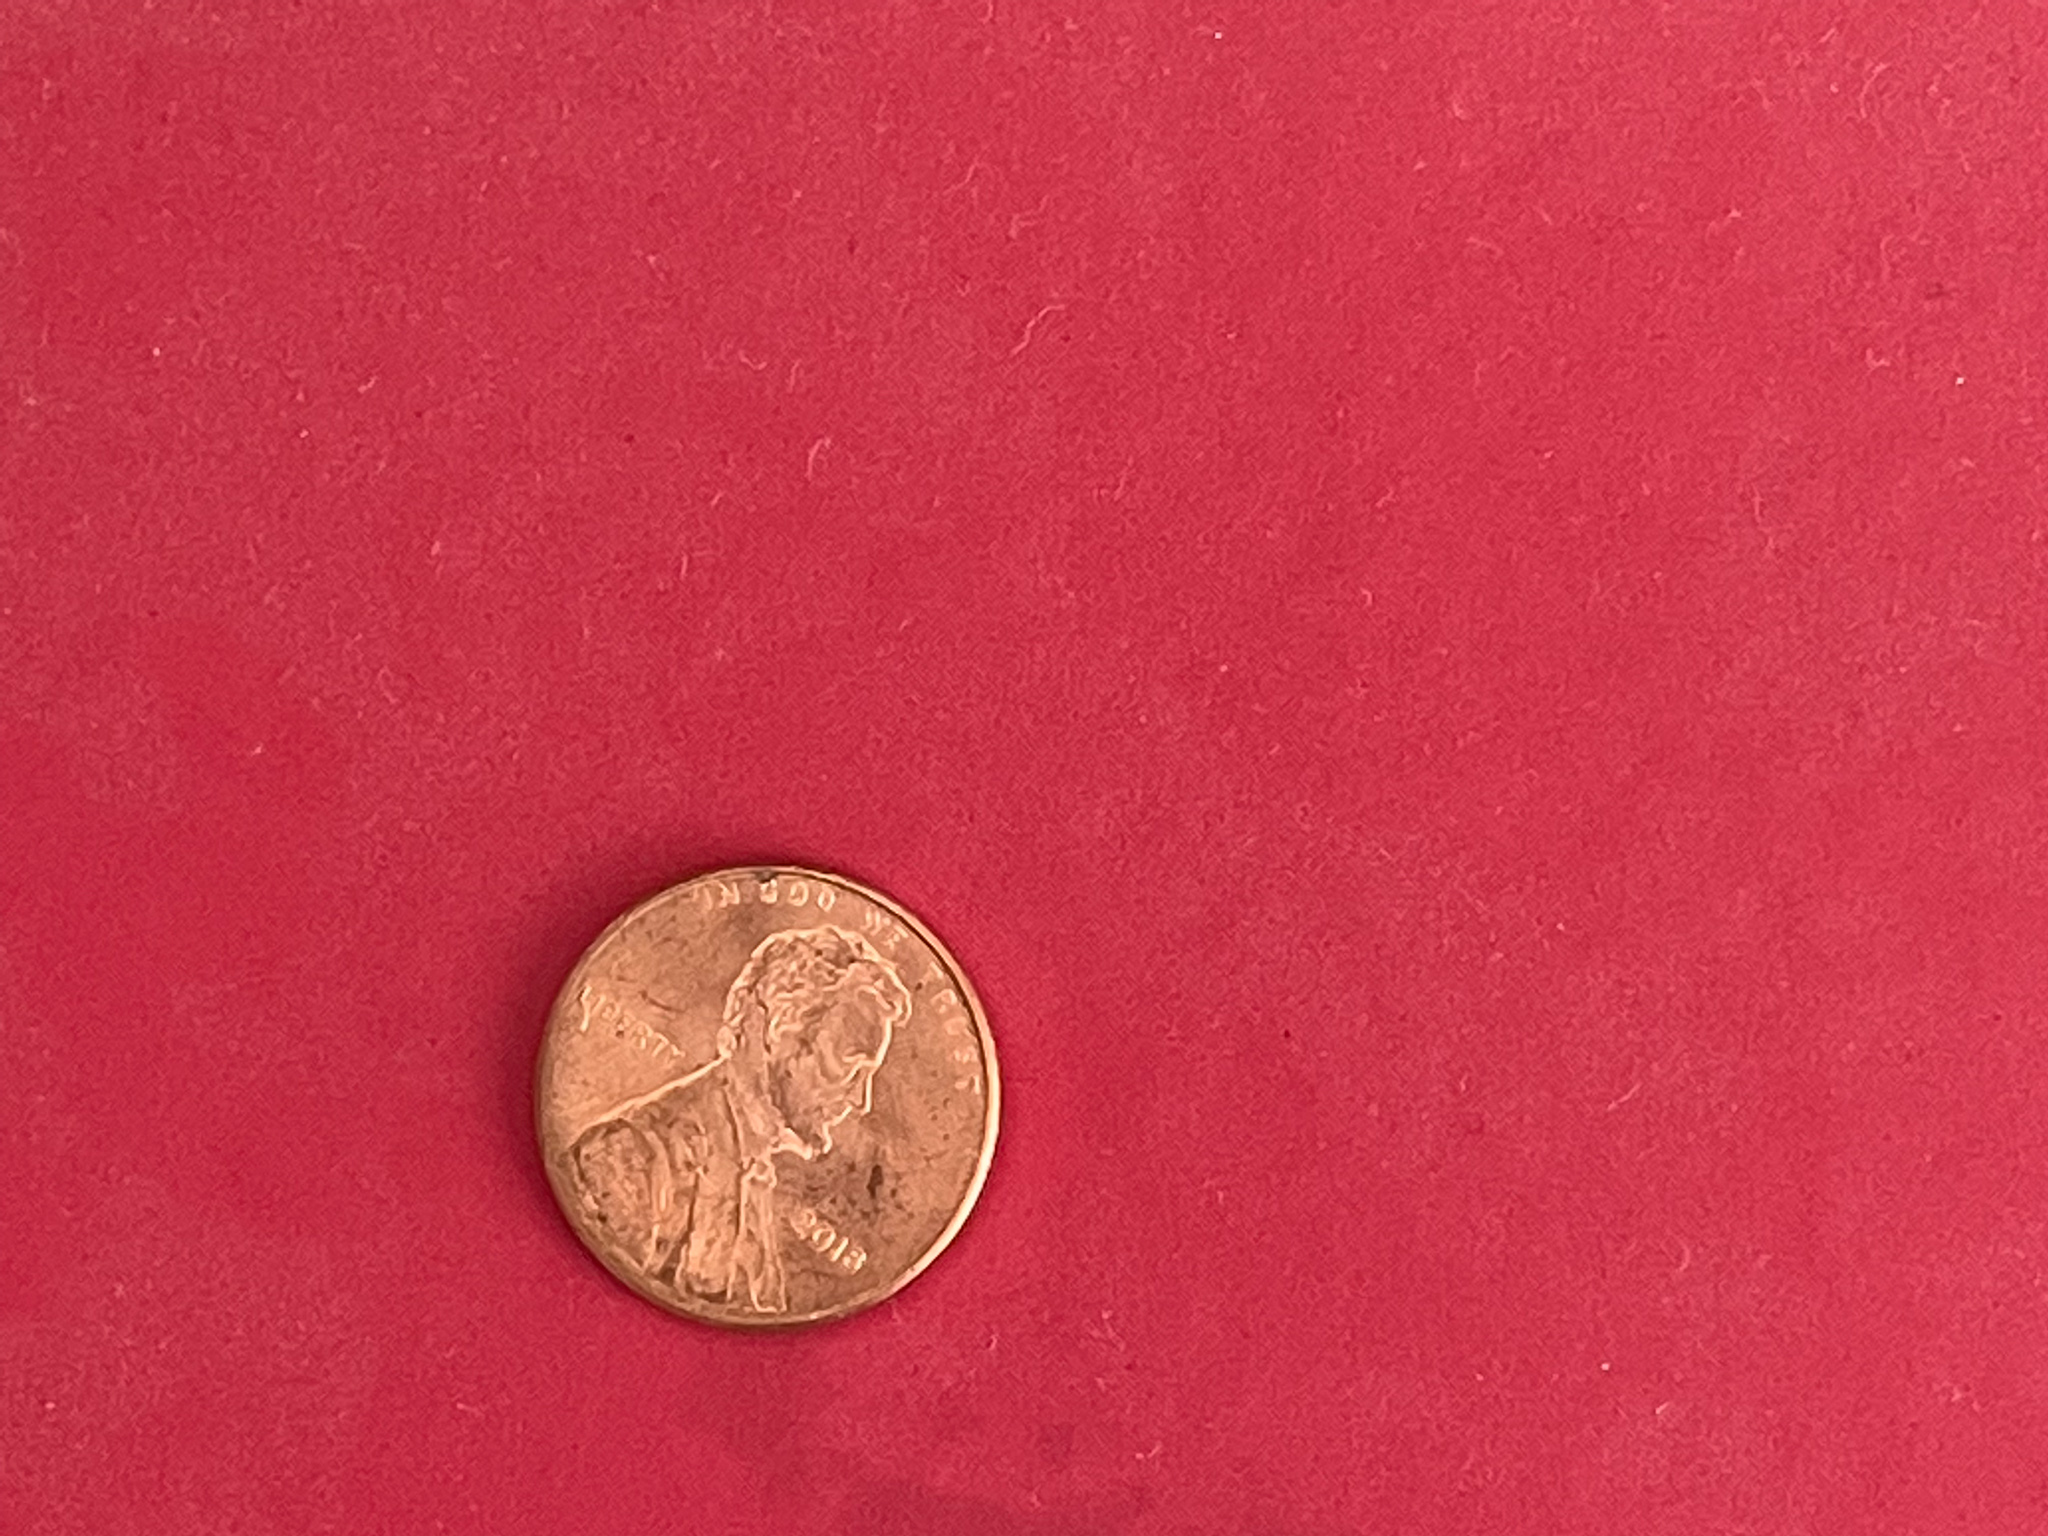penny: (526, 858, 1008, 1333)
